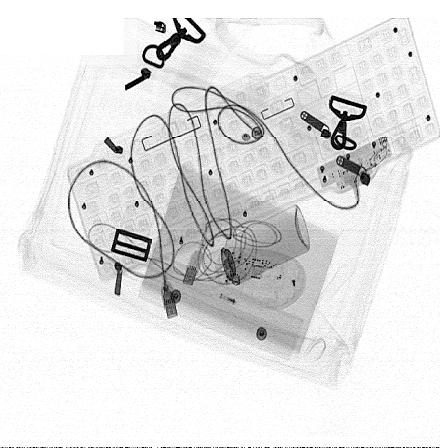Sprayer: (207, 204, 310, 288)
